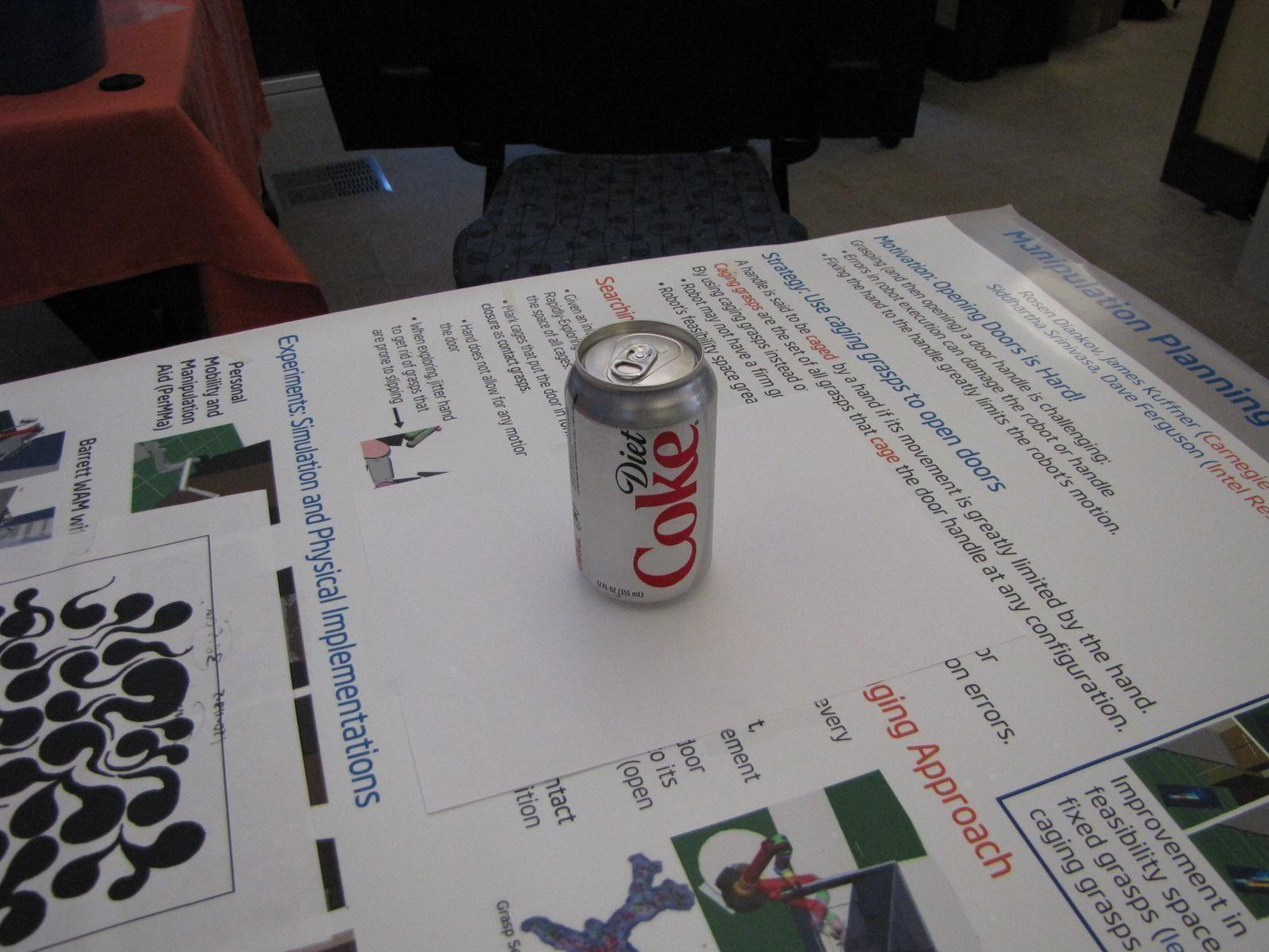tin can: (562, 312, 721, 612)
